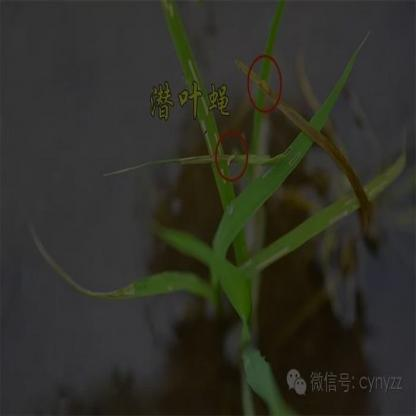whorl-maggot: (226, 148, 238, 172)
